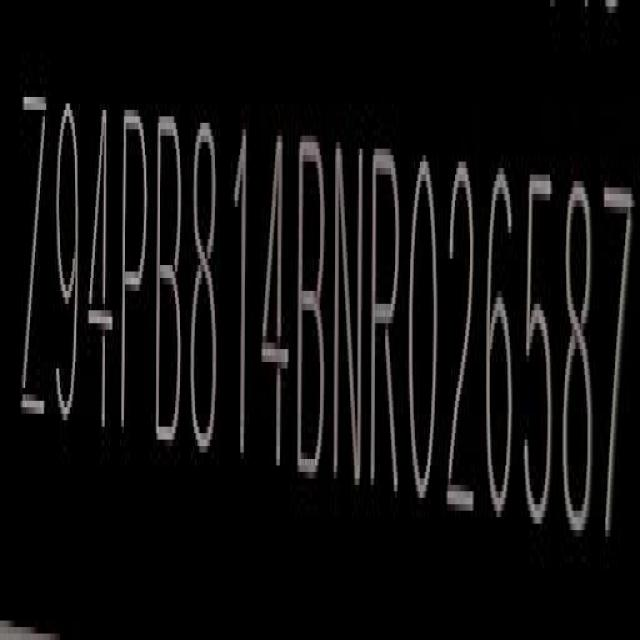0: (408, 160, 439, 498)
1: (230, 132, 250, 455)
2: (447, 156, 478, 522)
4: (83, 96, 113, 428), (262, 129, 288, 474)
5: (523, 170, 556, 527)
6: (484, 170, 516, 517)
7: (603, 180, 634, 550)
8: (188, 103, 224, 467), (561, 184, 595, 536)
9: (54, 100, 80, 436)
B: (296, 120, 328, 479), (152, 112, 184, 448)
N: (331, 134, 365, 496)
P: (118, 103, 149, 438)
R: (369, 148, 404, 503)
Z: (21, 83, 48, 440)
